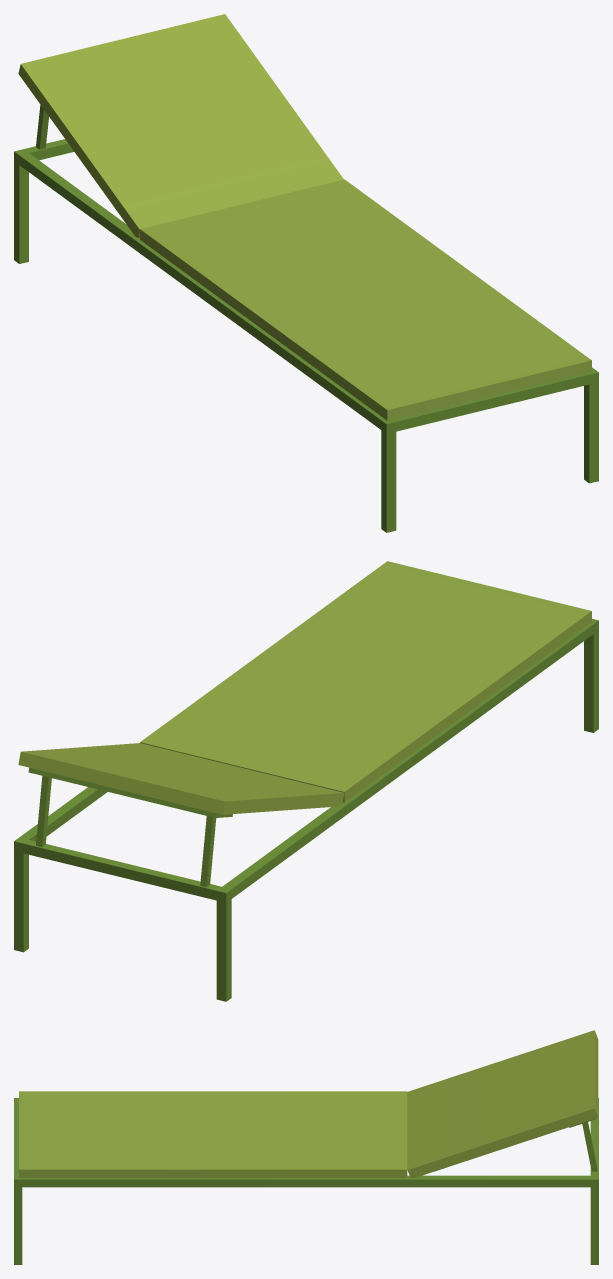
The model's file is Lounger_02.fbx.
3 renders of one model, top to bottom at view 1: azimuth 30°, elevation 25°; view 2: azimuth 150°, elevation 25°; view 3: azimuth 270°, elevation 25°, orthographic. The views are drawn at different scales.
Visible parts, largest first — view 1: Lounger_02; view 2: Lounger_02; view 3: Lounger_02.
Part boxes in pixels (x1,y1,x2,y2): Lounger_02: [14, 14, 598, 532]; Lounger_02: [14, 561, 598, 1001]; Lounger_02: [14, 1030, 598, 1264].
Size of the model in its own units: 0.6811 by 0.6048 by 2.07.
